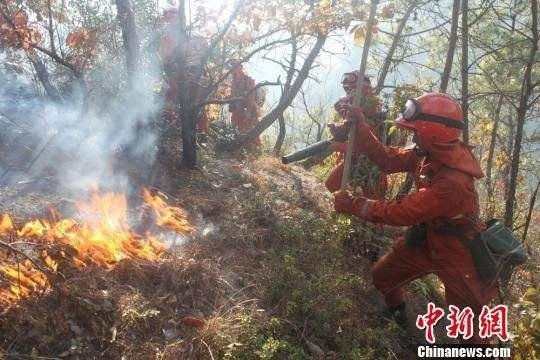fire: (1, 178, 181, 330)
